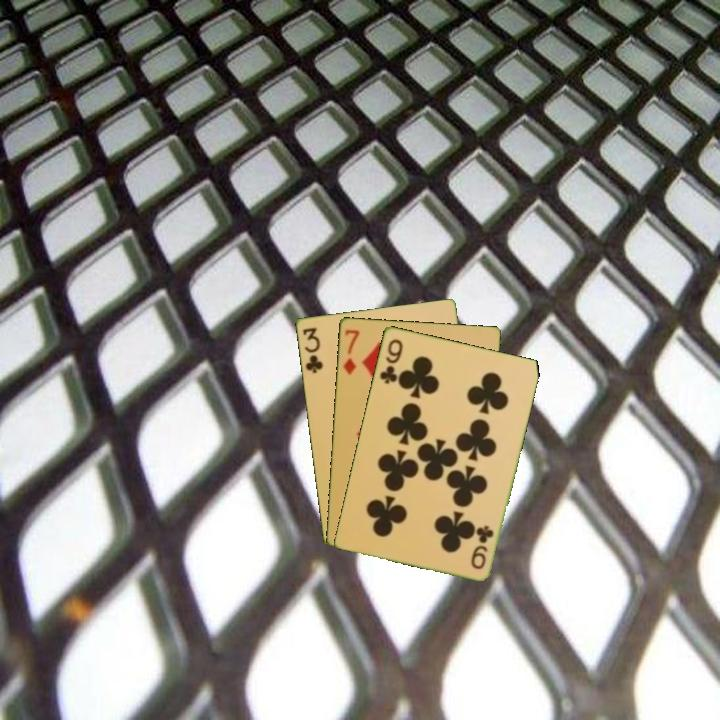3c: (299, 324, 325, 376)
7d: (339, 325, 362, 377)
9c: (376, 335, 405, 386), (467, 521, 496, 572)
